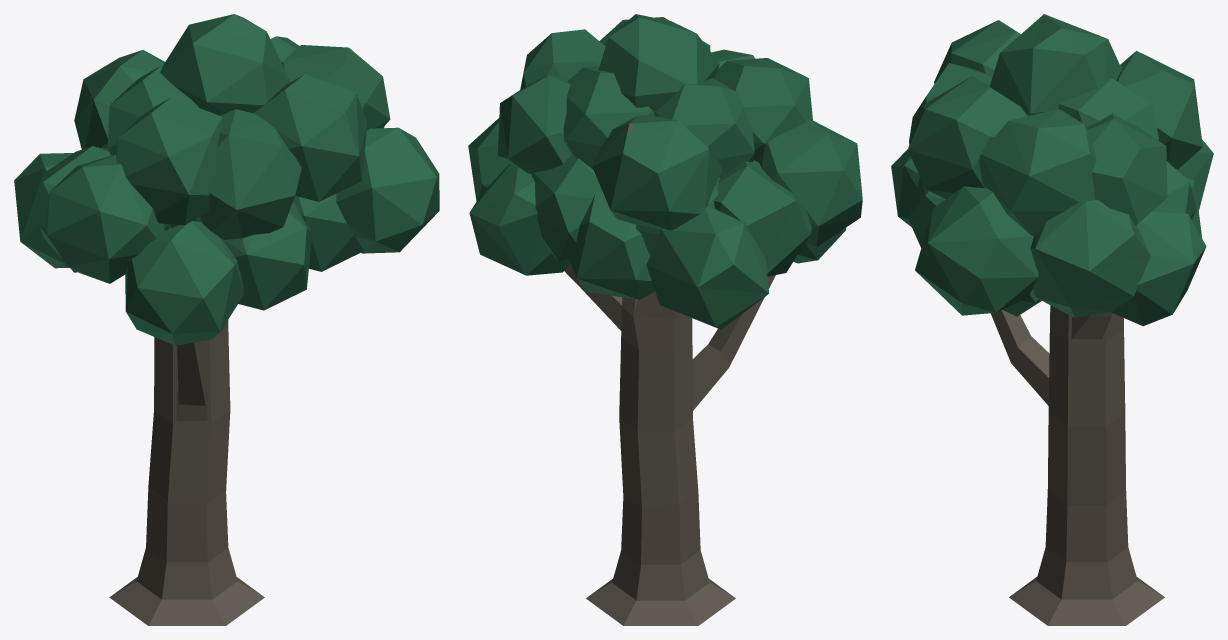
Rendered from Oak Tree.fbx.
3 renders of one model, left to right at view 1: azimuth 30°, elevation 25°; view 2: azimuth 150°, elevation 25°; view 3: azimuth 270°, elevation 25°, orthographic. The views are drawn at different scales.
Parts seen in each view (by area): view 1: Oak Tree; view 2: Oak Tree; view 3: Oak Tree.
Boxes of the visible parts, bbox=[...] form: Oak Tree: bbox=[14, 14, 439, 625]; Oak Tree: bbox=[468, 14, 862, 625]; Oak Tree: bbox=[891, 14, 1213, 625].
Size of the model in its own units: 196 by 394 by 263.
